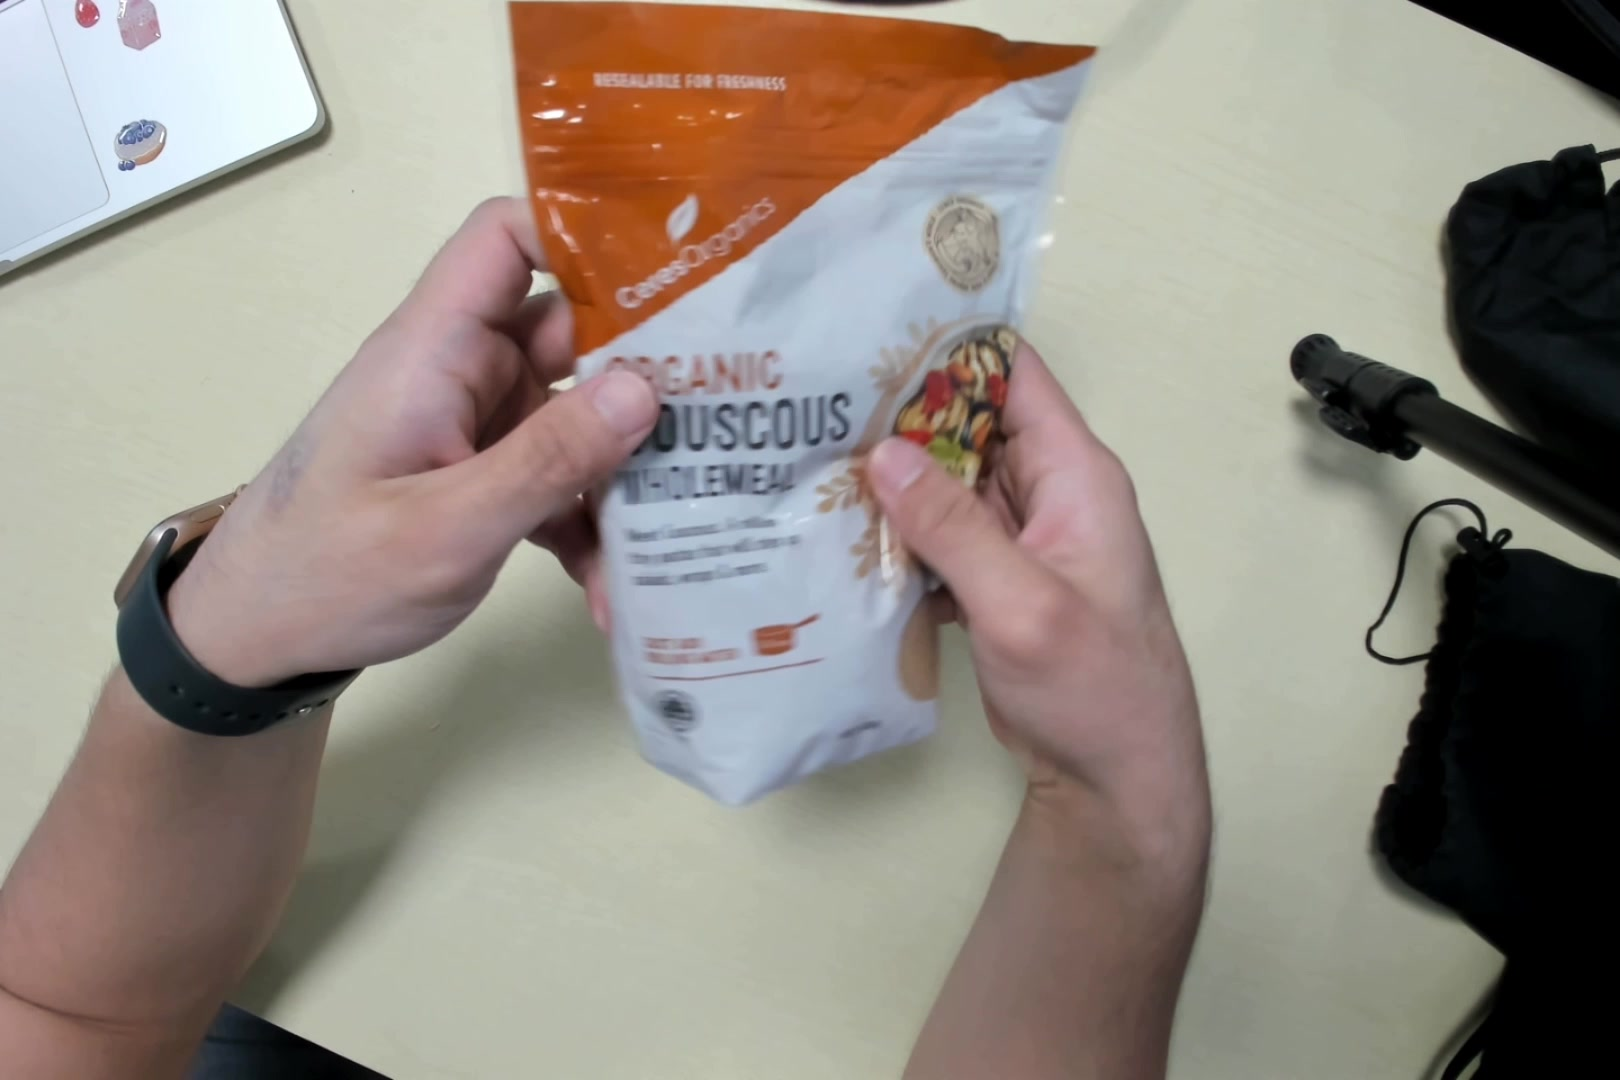Rice(BrownOthers)_300-399g_NonHalal_NonHealthy: (522, 13, 1049, 803)
